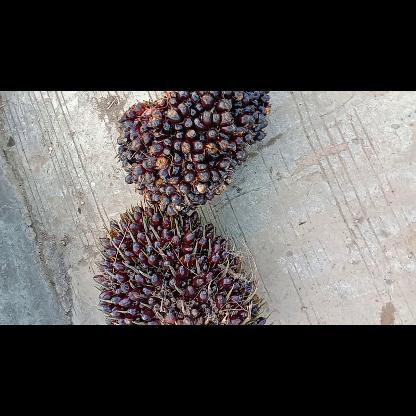TBS mentah: (92, 206, 266, 324), (117, 91, 271, 215)
